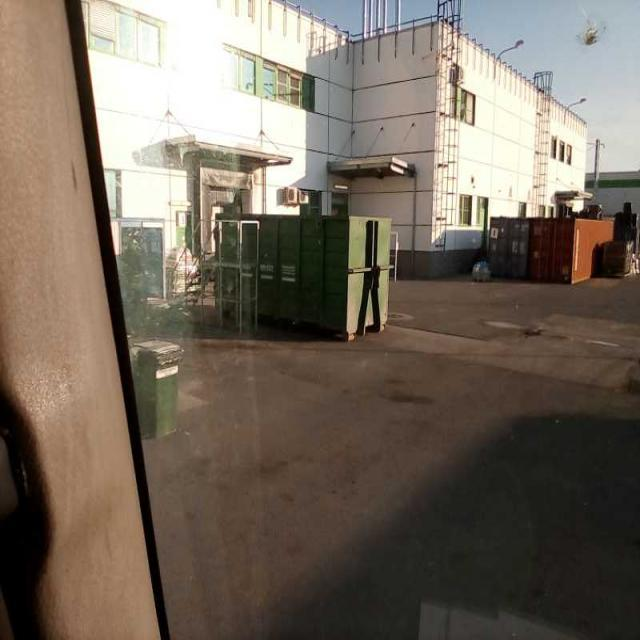Dumpster: (214, 205, 395, 346)
